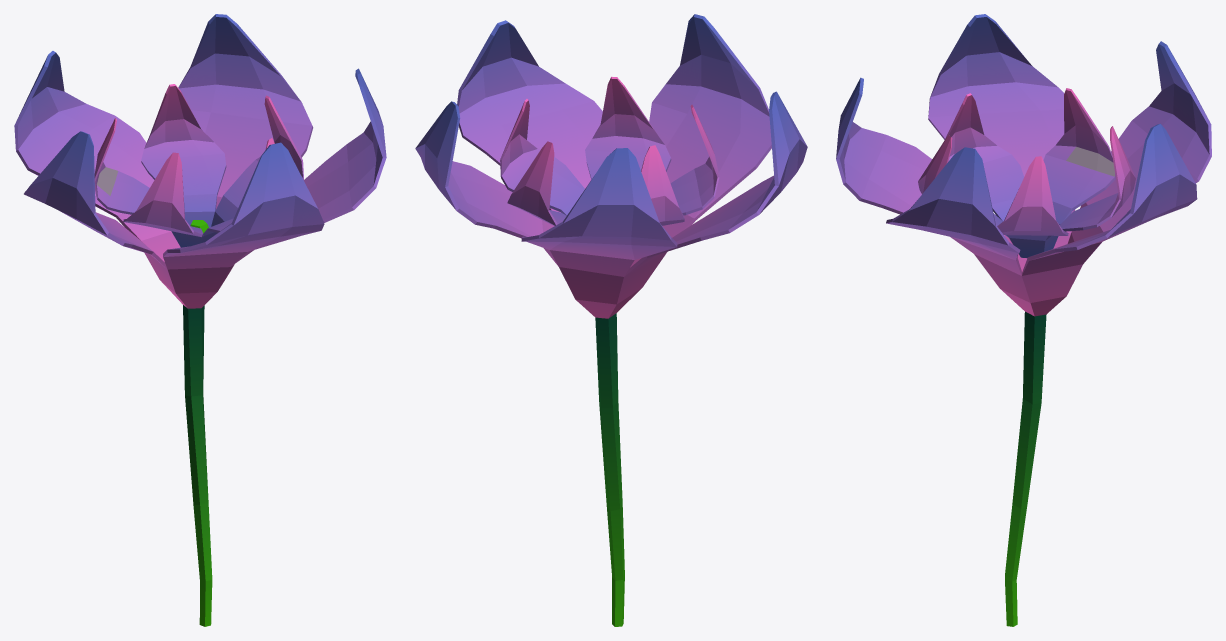
Rendered from SM_Flower.fbx.
3 views of the same model, side by side, from view 1: azimuth 30°, elevation 25°; view 2: azimuth 150°, elevation 25°; view 3: azimuth 270°, elevation 25° (orthographic). The views are drawn at different scales.
Visible parts, largest first — view 1: SM_Flower; view 2: SM_Flower; view 3: SM_Flower.
Boxes of the visible parts, left/top/right/bottom form: SM_Flower: left=14, top=14, right=386, bottom=626; SM_Flower: left=415, top=14, right=807, bottom=626; SM_Flower: left=836, top=14, right=1211, bottom=626.
Bounding box in the file's own units: 25.27 × 39.54 × 24.83.
Materials: 1 (1 with a texture image).
